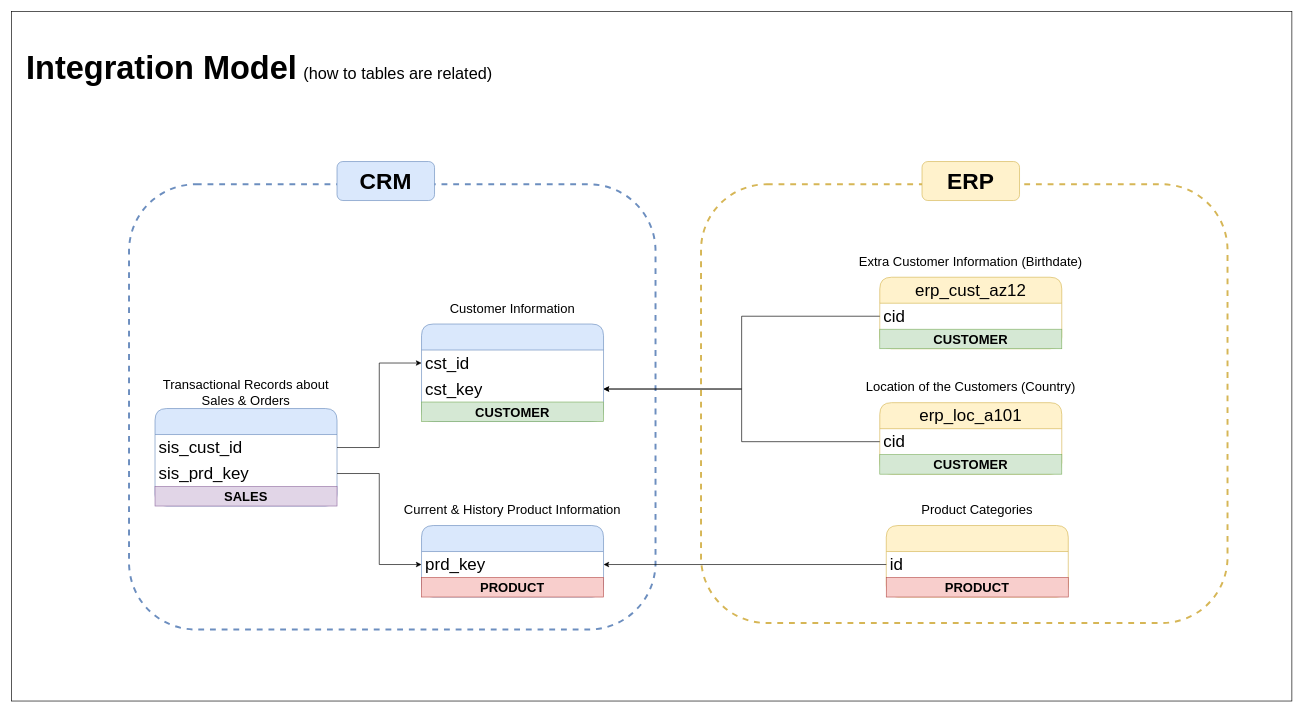
Some shapes in this 1303 by 712 pixel diagram are drawn without their labels. Here are the shapes that lost their labels. From the top down, the box of each, then its label:
(421, 323, 604, 422): crm_cust_info
(154, 408, 337, 506): crm_sls_details
(421, 525, 604, 597): crm_prd_info
(886, 525, 1068, 597): erp_px_cat_g1v2
